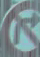Don't turn right: (2, 1, 39, 51)
